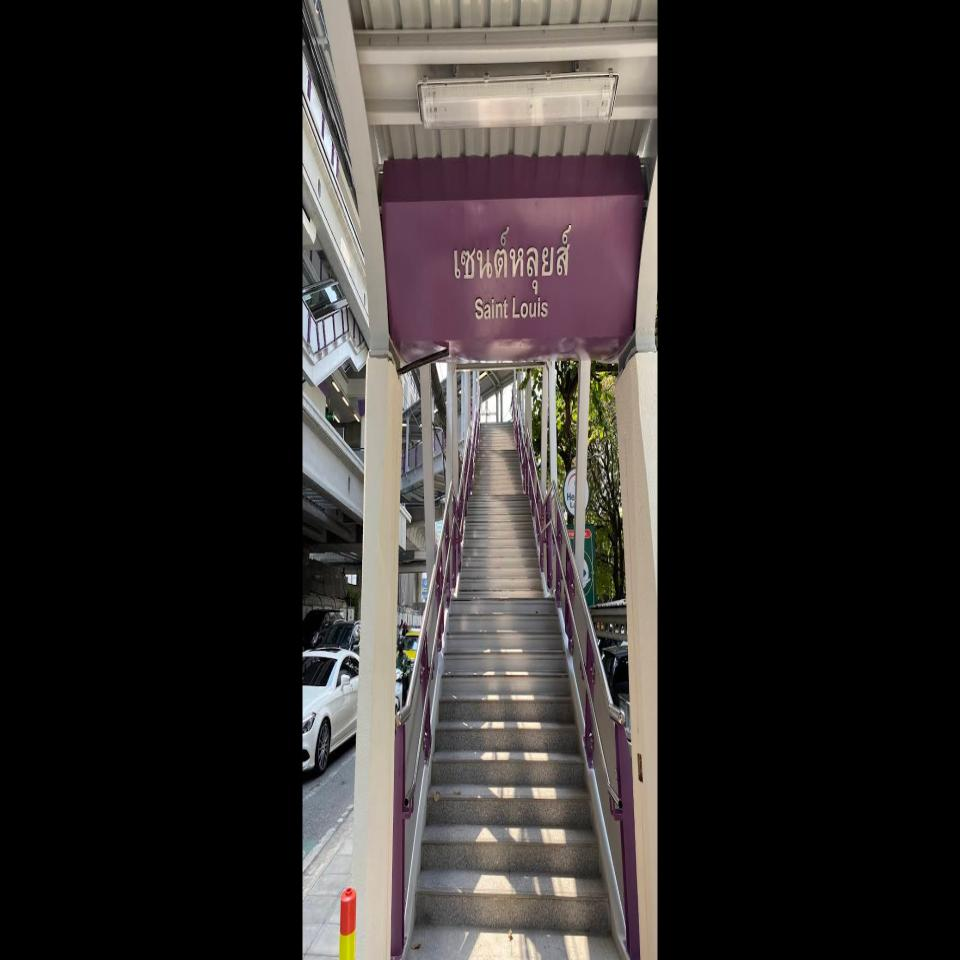signage: (379, 195, 644, 338)
